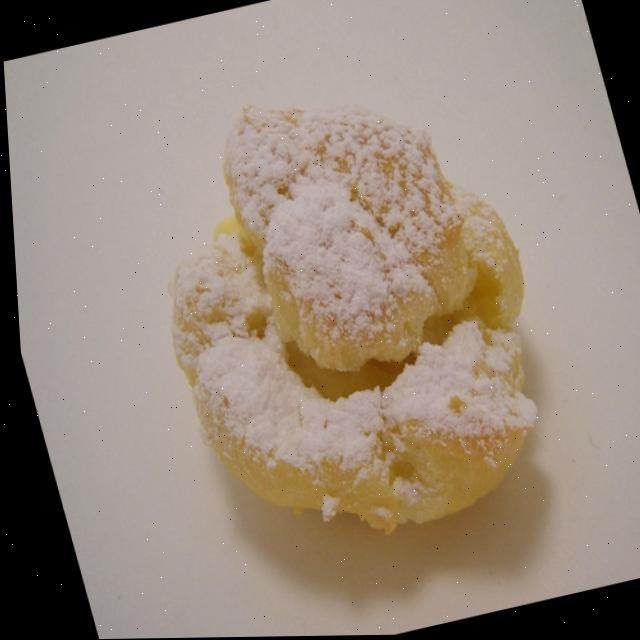炸货点心: (77, 26, 626, 617)
蛋糕甜品: (77, 26, 626, 617)
